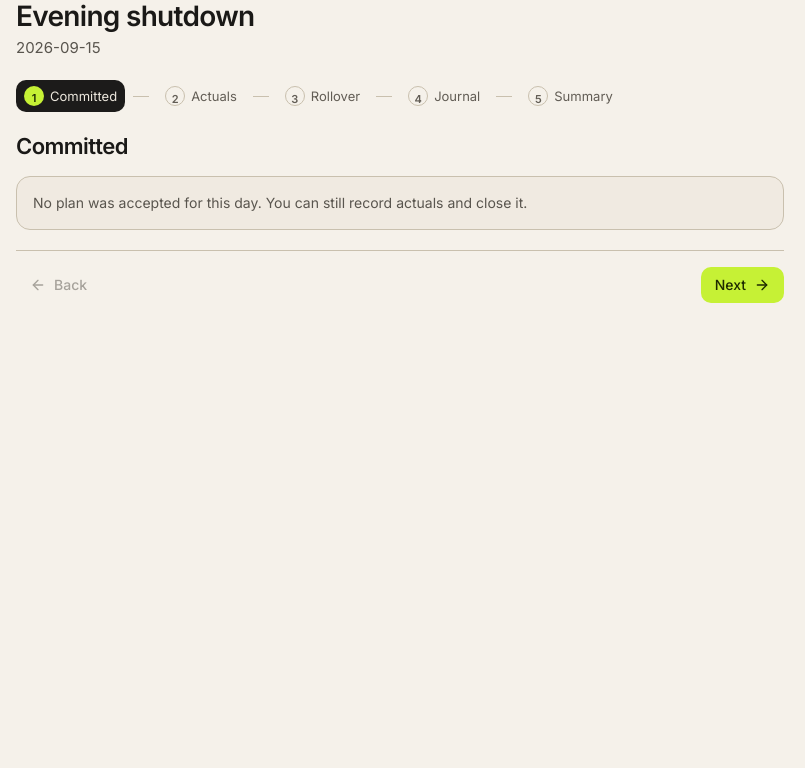
Test case: EveningFlow › explains an empty day instead of failing
Expected: the text with test id "evening-no-commitment" is shown, [33,194,527,211]
Click the button "Next". click: (742, 285)
box: [701,267,784,303]
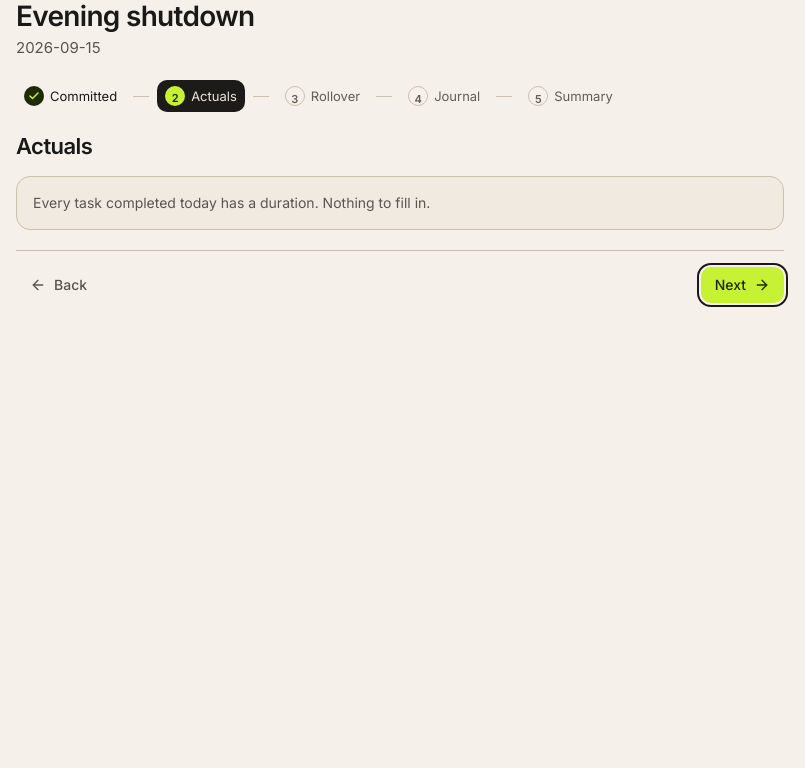
Expected: the text with test id "evening-no-actuals" is shown, [33,194,430,211]
Click the button "Next". click: (742, 285)
box: [701,267,784,303]
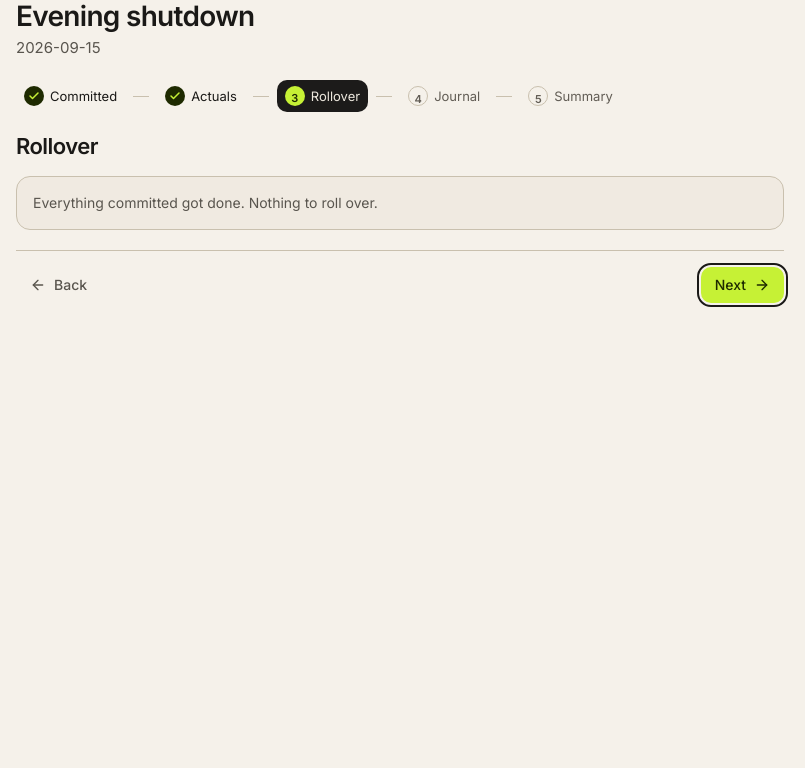
Expected: the text "Everything committed got done. Nothing to roll over." is shown, [33,194,378,211]
Click the button "Next". click: (742, 285)
box: [701,267,784,303]
(page scrolled)
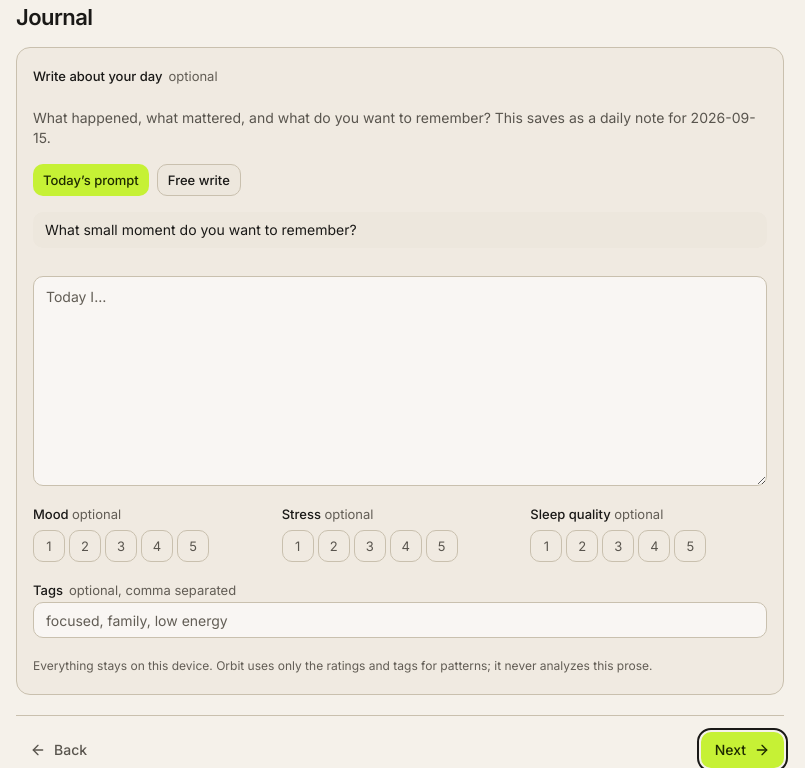
Expected: the element with test id "evening-journal" is shown
Click the button "Next". click: (742, 750)
box: [701,732,784,767]
(page scrolled)
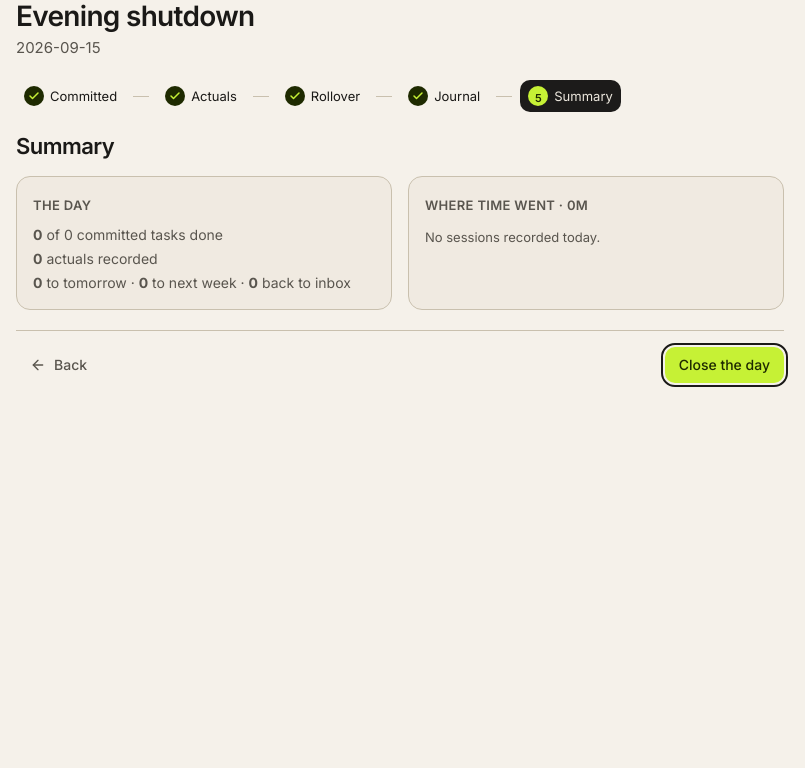
Expected: the element with test id "evening-time-by-area" shows "No sessions recorded", [425,229,600,245]
